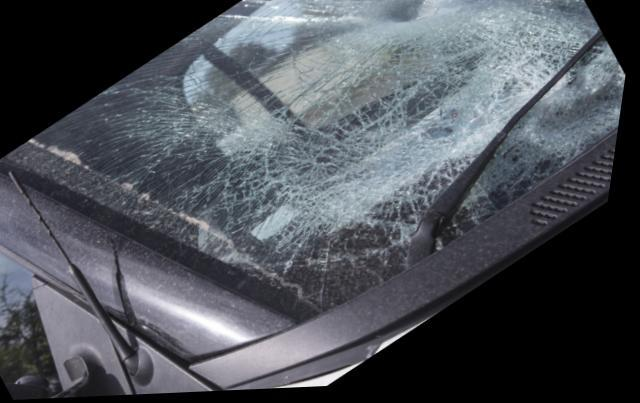glass shatter: (1, 0, 628, 313)
